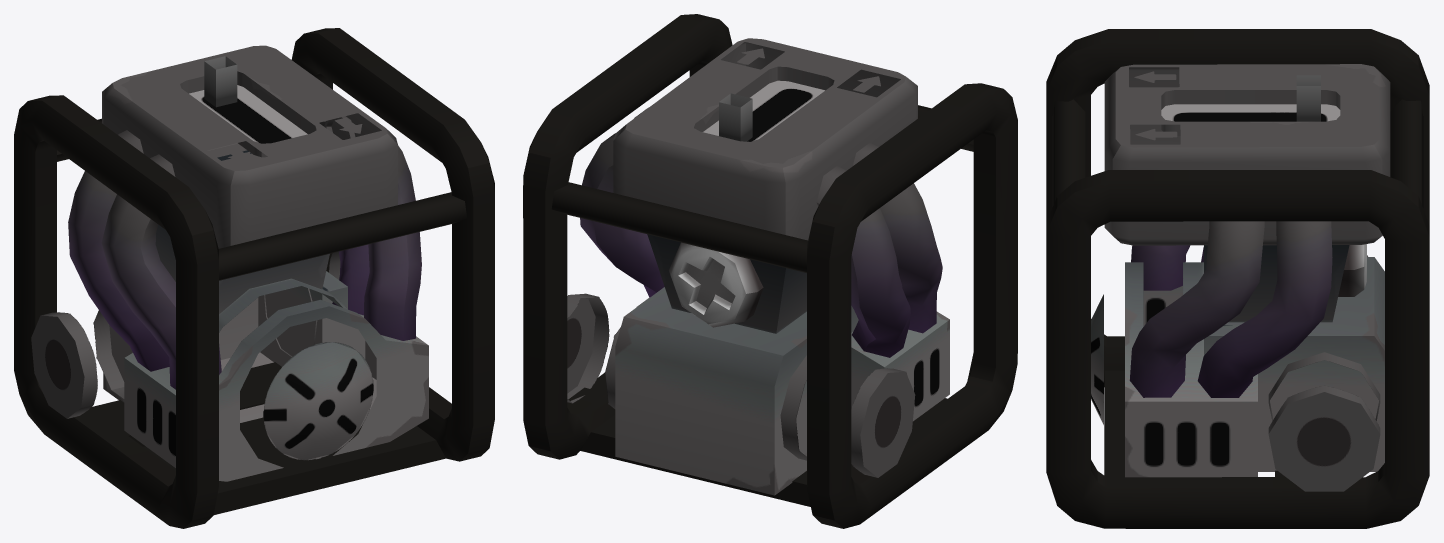
The model's file is obj_interactive_gasengine_01_off.fbx.
3 renders of one model, left to right at view 1: azimuth 30°, elevation 25°; view 2: azimuth 150°, elevation 25°; view 3: azimuth 270°, elevation 25°, orthographic. The views are drawn at different scales.
Visible parts, largest first — view 1: obj_interactive_gasengine_01_off; view 2: obj_interactive_gasengine_01_off; view 3: obj_interactive_gasengine_01_off.
Boxes of the visible parts, <box> form: obj_interactive_gasengine_01_off: <box>14,28,494,528</box>; obj_interactive_gasengine_01_off: <box>523,14,1017,528</box>; obj_interactive_gasengine_01_off: <box>1046,29,1429,528</box>.
Bounding box in the file's own units: 2.05 × 2.4 × 2.04.
